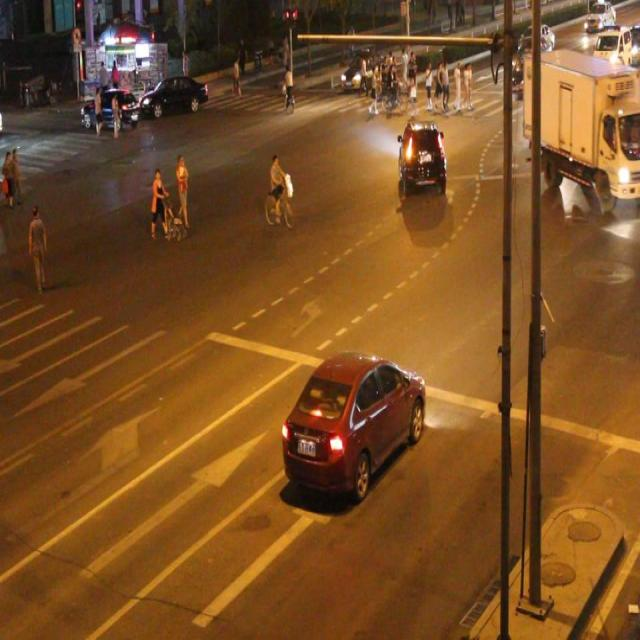bus: (521, 46, 640, 201)
car: (284, 350, 426, 490), (396, 119, 446, 192), (140, 75, 208, 115), (544, 86, 579, 127)
